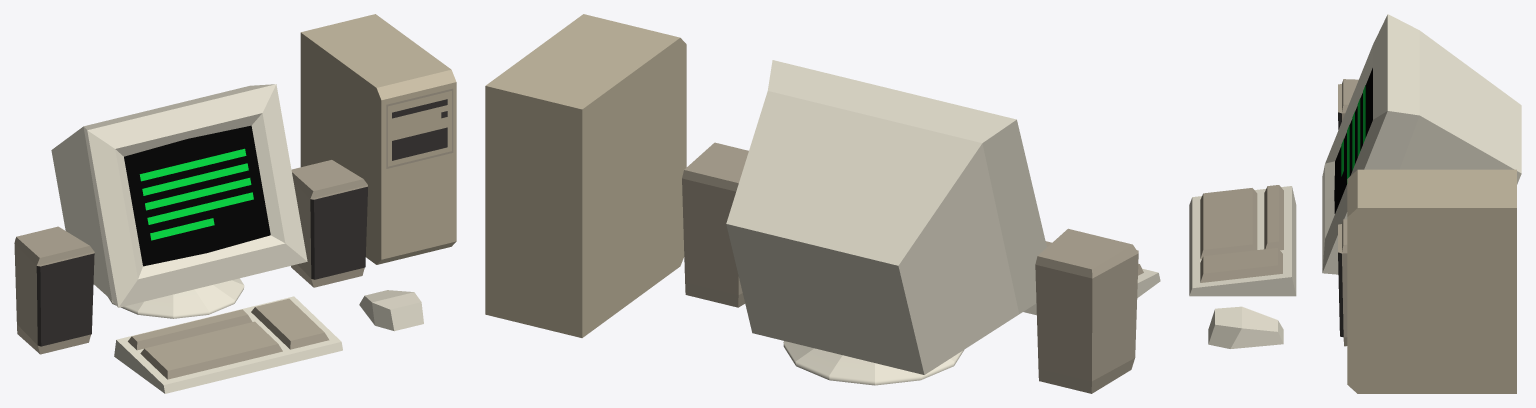
The model's file is Computer Generic 2000s.glb.
The picture shows the model from 3 angles, left to right: view 1: azimuth 30°, elevation 25°; view 2: azimuth 150°, elevation 25°; view 3: azimuth 270°, elevation 25°; orthographic projection. The views are drawn at different scales.
Visible parts, largest first — view 1: monitor, tower, keyboard, speaker, speaker_dupe, screen_text, monitor_basefoot, mouse; view 2: monitor, tower, speaker, speaker_dupe, monitor_basefoot, keyboard; view 3: tower, monitor, keyboard, mouse, speaker_dupe, screen_text, speaker.
Part boxes in pixels (bbox=[...]): monitor: bbox=[51, 84, 307, 307]; tower: bbox=[300, 14, 456, 264]; keyboard: bbox=[114, 296, 342, 393]; speaker: bbox=[14, 226, 94, 354]; speaker_dupe: bbox=[291, 160, 367, 287]; screen_text: bbox=[139, 148, 253, 240]; monitor_basefoot: bbox=[108, 278, 244, 318]; mouse: bbox=[359, 290, 423, 331]; monitor: bbox=[726, 60, 1046, 374]; tower: bbox=[485, 14, 686, 337]; speaker: bbox=[1035, 228, 1138, 393]; speaker_dupe: bbox=[682, 142, 748, 307]; monitor_basefoot: bbox=[783, 341, 963, 385]; keyboard: bbox=[1023, 241, 1160, 315]; tower: bbox=[1347, 169, 1516, 393]; monitor: bbox=[1322, 14, 1521, 274]; keyboard: bbox=[1189, 185, 1296, 296]; mouse: bbox=[1208, 306, 1283, 348]; speaker_dupe: bbox=[1338, 219, 1347, 346]; screen_text: bbox=[1341, 85, 1365, 183]; speaker: bbox=[1338, 79, 1358, 129].
Size of the model in its own units: 0.1226 by 0.0534 by 0.0796.
